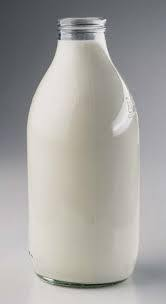milk: (24, 12, 148, 290)
